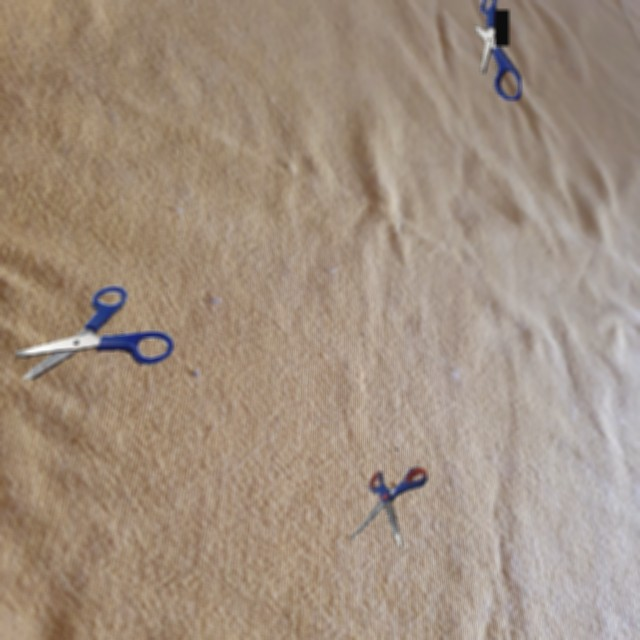scissors: (16, 285, 173, 379), (350, 448, 427, 547), (475, 0, 521, 100)
